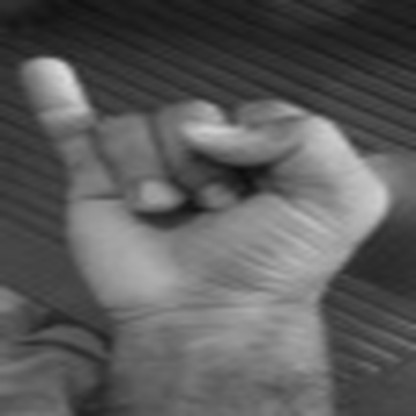i: (9, 46, 392, 304)
